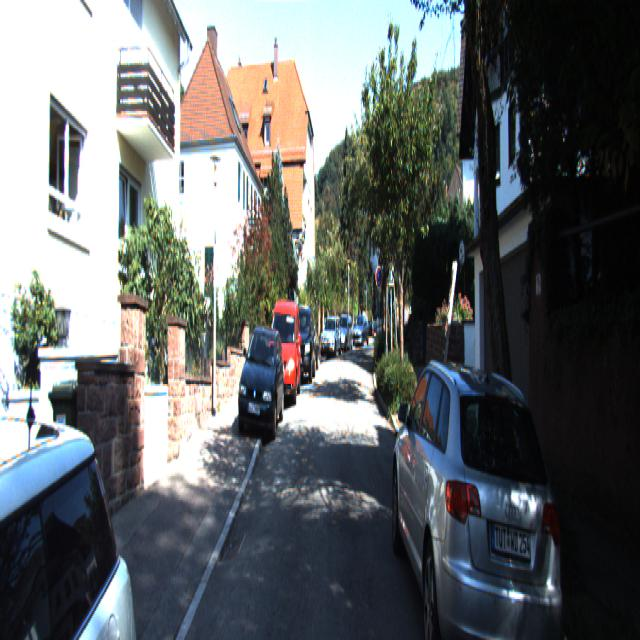Car: (390, 345, 574, 638), (0, 392, 152, 639), (542, 373, 640, 639), (237, 322, 284, 450), (265, 297, 301, 411), (287, 305, 316, 390), (320, 316, 342, 362)
